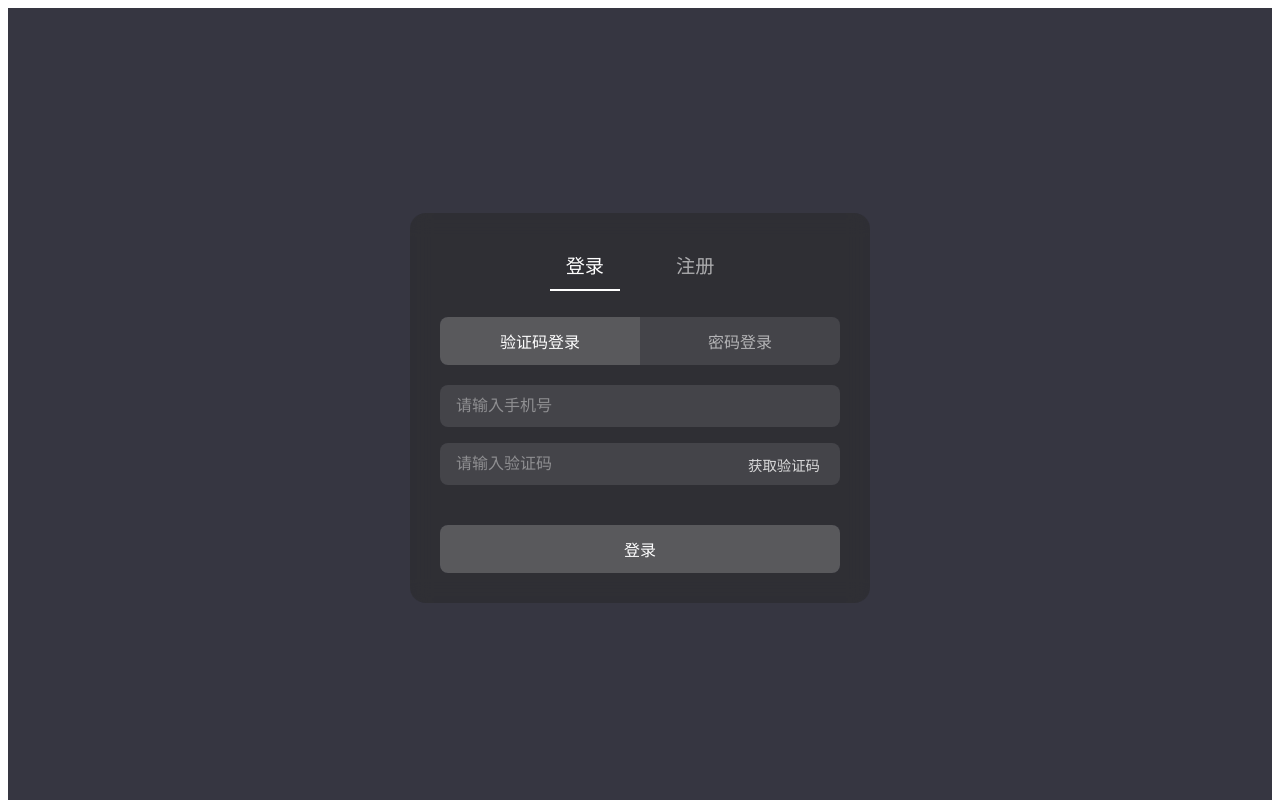
Scenario: 登录页面 › 手机号验证 › 空手机号提示错误
Click the button with test id "request-code-button" at (784, 464), box [736, 446, 832, 482]
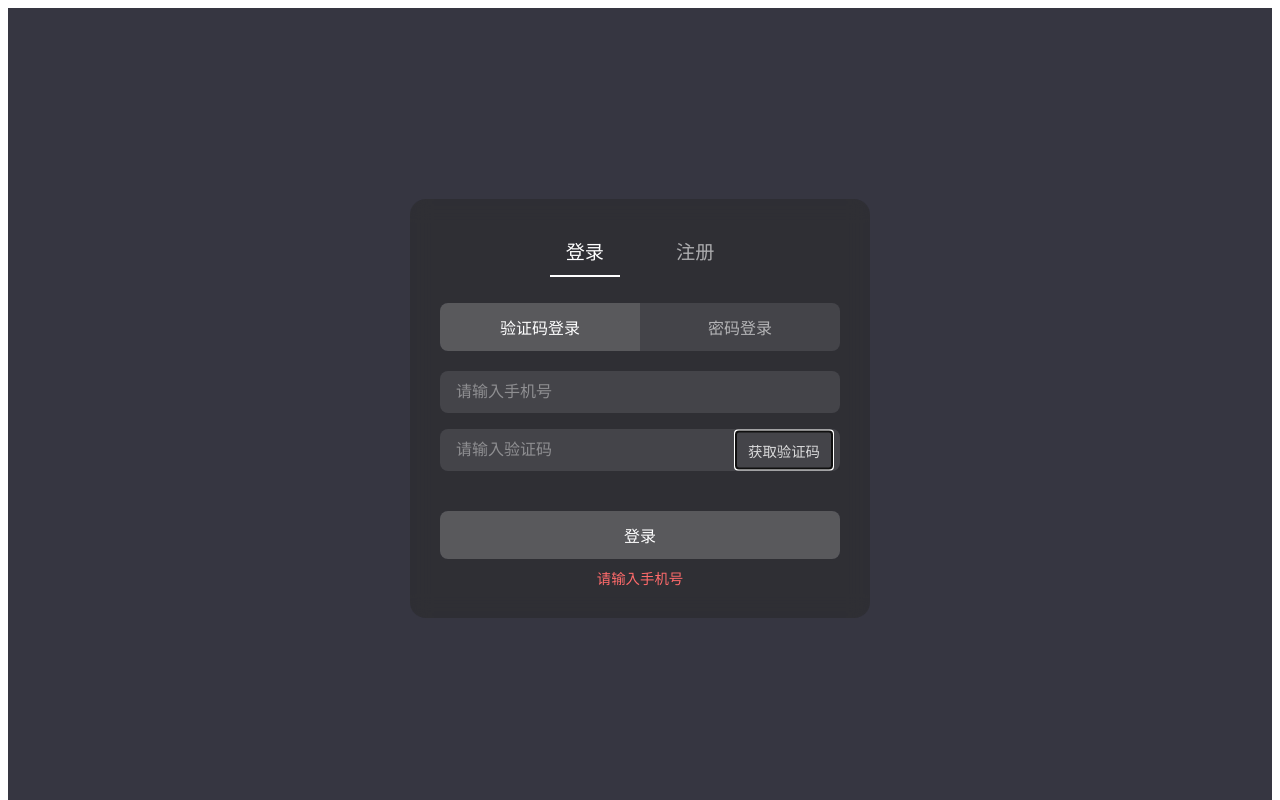
Expected: the text with test id "message" reads "请输入手机号", [597, 570, 683, 586]
